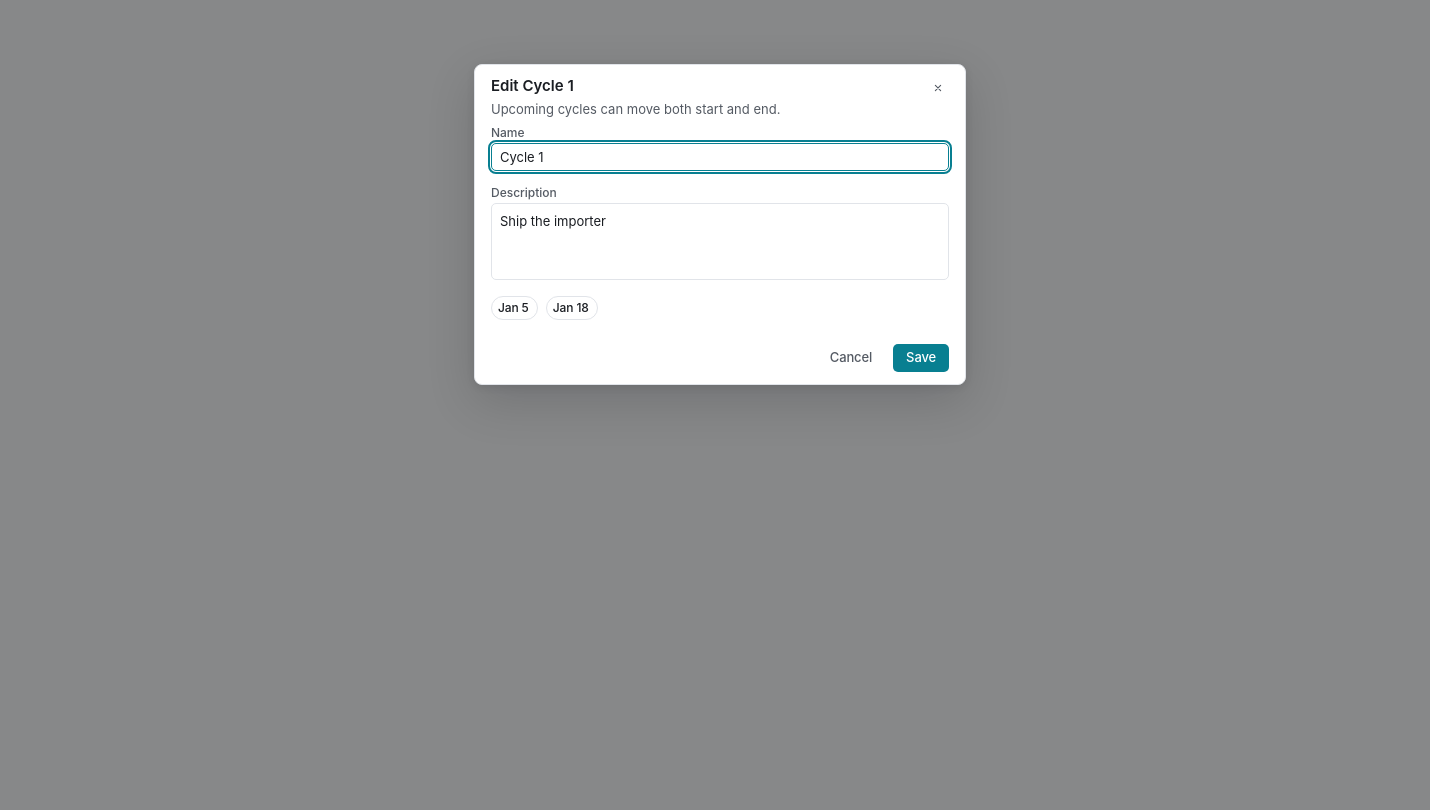
Test case: CycleEditModal discard guard › asks instead of closing when the name was edited
The width and height of the screenshot is (1440, 810).
Type " and a half" into the field labelled "Name". click: (720, 157)
box: [500,144,940,170]
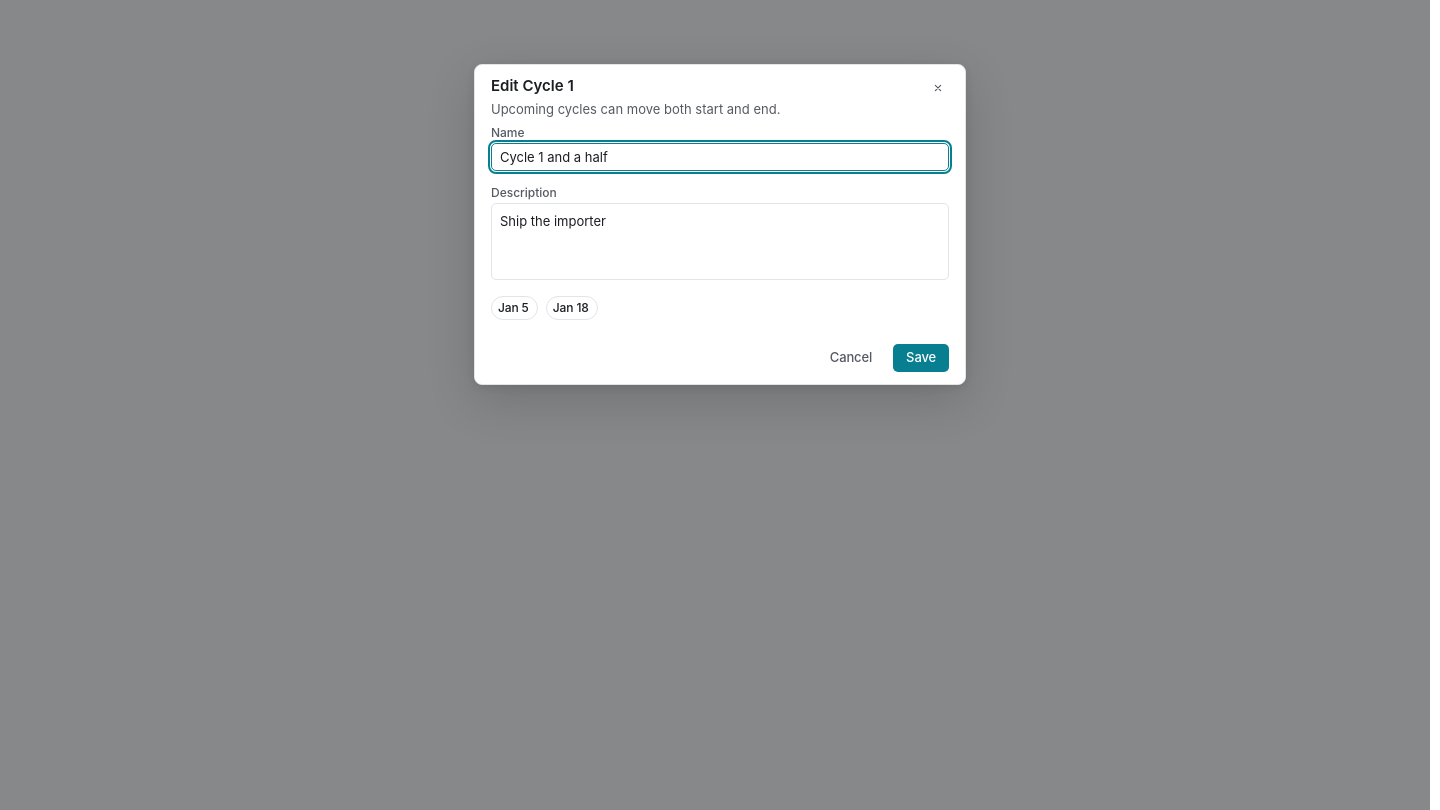
Press Escape
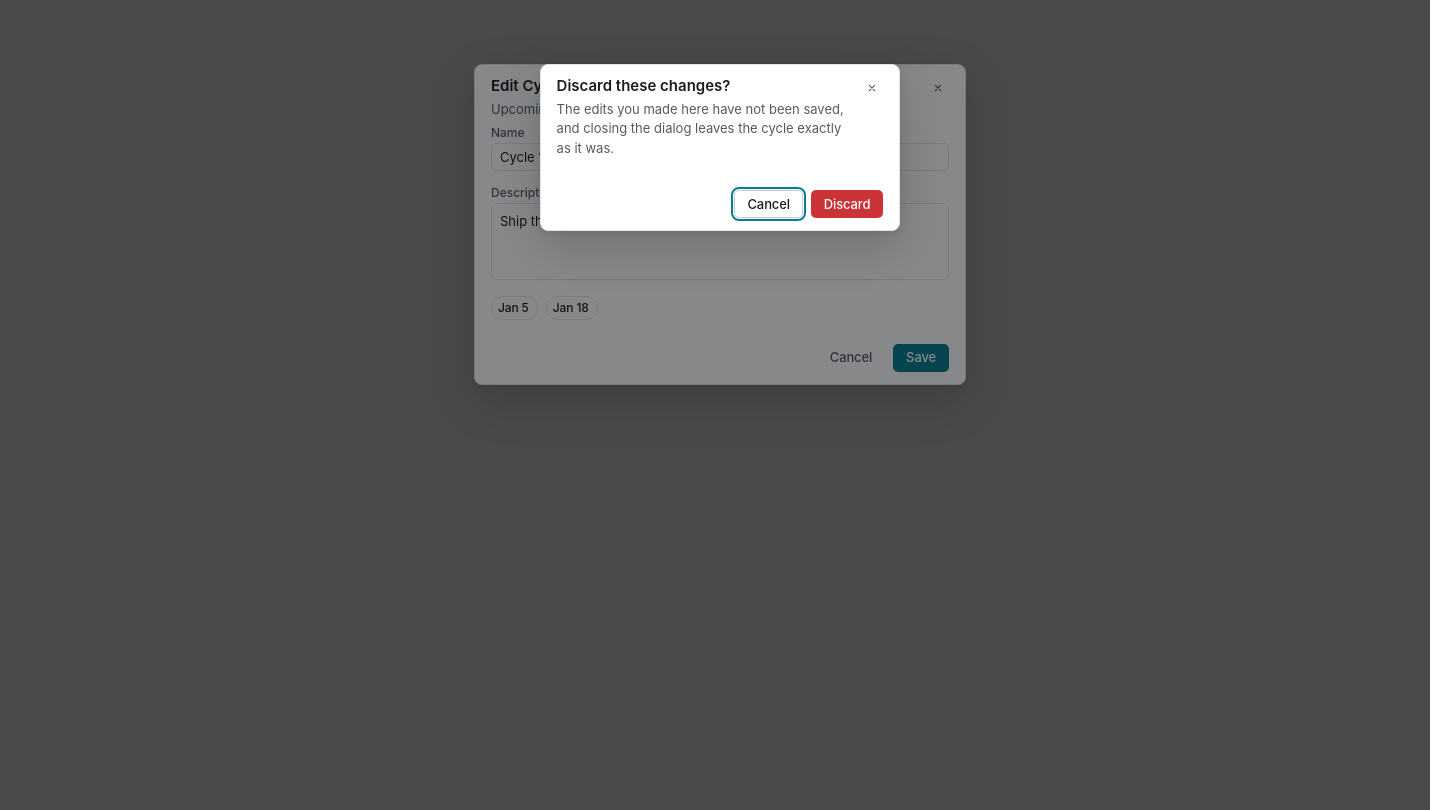
Check: the dialog "Discard these changes?" is shown, box [540,64,900,231]
